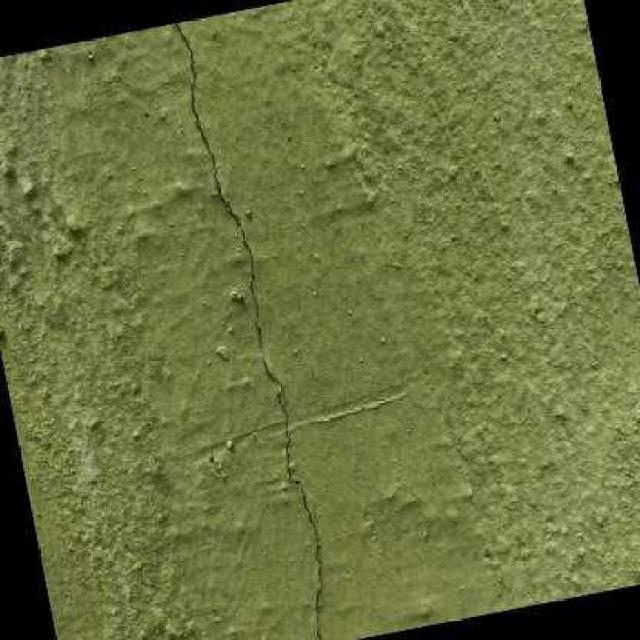D00: (174, 22, 321, 640)
